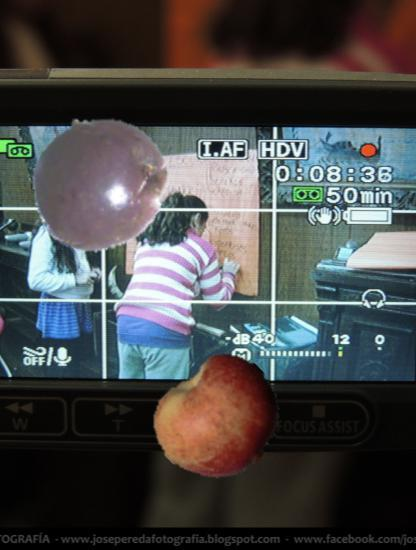Nectarine: (156, 356, 285, 485)
Passion: (30, 115, 171, 256)
